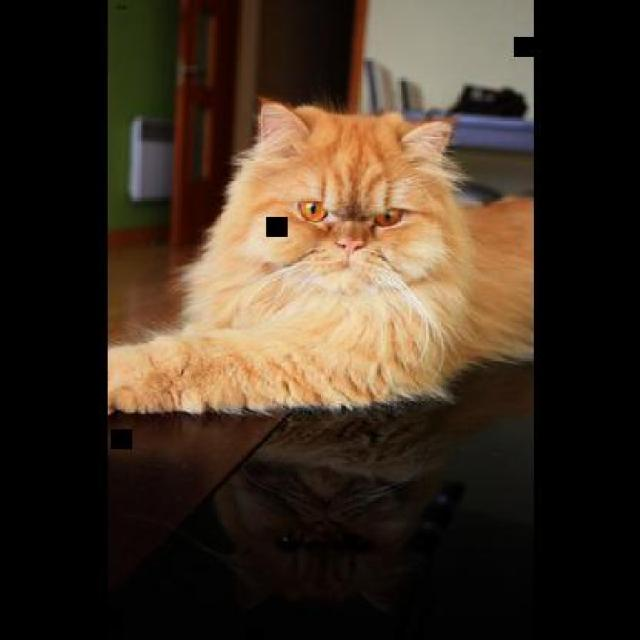unauthorized: (106, 94, 534, 417)
